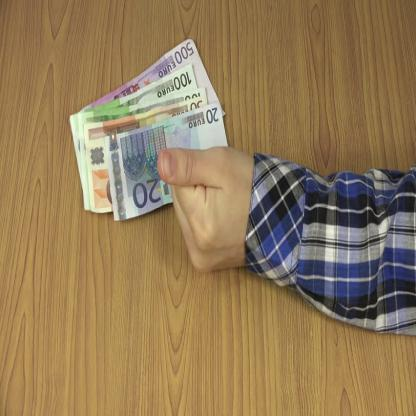billete: (68, 36, 230, 224)
